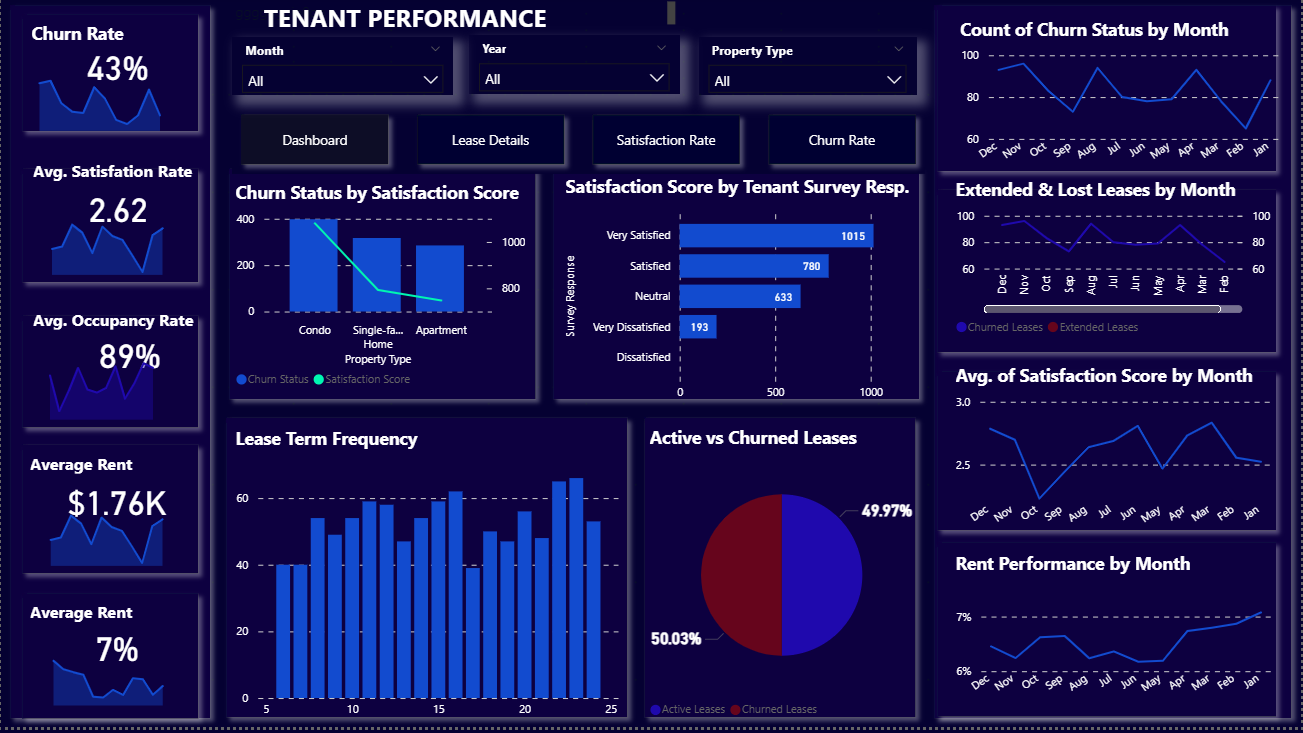

What the dashboard file says about the page in this screenshot:
{"tool":"powerbi","page":{"name":"Dashboard","canvas":[1280,720],"ordinal":0},"visuals":[{"type":"shape","box":[0,0,215,720],"z":0},{"type":"shape","box":[910,0,370,720],"z":1000},{"type":"shape","box":[212.2,406.7,413.3,313.3],"z":2000},{"type":"shape","box":[215,161.7,320,245],"z":3000},{"type":"shape","box":[625,406.7,285,313.3],"z":4000},{"type":"shape","box":[535,161.7,378.3,245],"z":5000},{"type":"textbox","box":[226,0,308,175],"z":6000},{"type":"textbox","box":[253.4,0,414.7,48],"z":7000},{"type":"pageNavigator","box":[227,108.2,682.7,67],"z":8000},{"type":"shape","box":[11.7,8.3,191.7,133.3],"z":9000},{"type":"shape","box":[11.7,161.7,191.7,130],"z":10000},{"type":"shape","box":[11.7,305,191.7,128.3],"z":11000},{"type":"shape","box":[11.7,433.3,191.7,145],"z":12000},{"type":"shape","box":[11.7,578.3,191.7,141.7],"z":13000},{"type":"card","title":"Churn Rate","fields":{"Values":["Measures Table.Churn Rate"]},"box":[25,25,178.3,63.3],"z":14000},{"type":"card","title":"Avg. Satisfation Rate","fields":{"Values":["Measures Table.Average Satisfaction Score"]},"box":[26.7,161.7,176.7,73.3],"z":15000},{"type":"card","title":"Avg. Occupancy Rate","fields":{"Values":["Avg(property_information.Historical Occupancy Rate Decimal)"]},"box":[26.9,307.8,199.7,67.2],"z":16000},{"type":"card","title":"Average Rent","fields":{"Values":["Avg(Fact Table.Rent Amount (USD))"]},"box":[23.3,448.3,180,73.3],"z":17000},{"type":"card","title":"Average Rent","fields":{"Values":["Measures Table.Rent Collection Performance"]},"box":[23.3,595,180,68.3],"z":18000},{"type":"areaChart","fields":{"Y":["Measures Table.Churn Rate"],"Category":["Start Date.Month"]},"box":[11.7,56.7,191.7,81.7],"z":19000},{"type":"areaChart","fields":{"Y":["Measures Table.Average Satisfaction Score"],"Category":["Start Date.Month"]},"box":[25,198.3,178.3,81.7],"z":20000},{"type":"areaChart","fields":{"Y":["Measures Table.Average Satisfaction Score"],"Category":["Start Date.Month"]},"box":[23.3,485,180,81.7],"z":21000},{"type":"areaChart","fields":{"Category":["Start Date.Month"],"Y":["Measures Table.Rent Collection Performance"]},"box":[26.7,623.3,176.7,80],"z":22000},{"type":"areaChart","fields":{"Y":["Measures Table.Current Occupancy Rate"],"Category":["Start Date.Month"]},"box":[23.6,341.9,168.4,80.8],"z":23000},{"type":"lineChart","fields":{"Category":["Start Date.MonthName"],"Y":["CountNonNull(Fact Table.Churn States)"]},"box":[930,13.3,320,168.3],"z":24000},{"type":"shape","box":[913.3,0,351.7,181.7],"z":25000},{"type":"shape","box":[913.3,528.3,351.7,190],"z":26000},{"type":"shape","box":[913.3,181.7,351.7,178.3],"z":27000},{"type":"shape","box":[913.3,360,351.7,175],"z":28000},{"type":"slicer","title":"Count of Churn Status by Month","fields":{"Values":["Start Date.MonthName"]},"box":[227,39.6,217.9,57.9],"z":29000},{"type":"lineChart","title":"Extended & Lost Leases by Month","fields":{"Category":["Start Date.MonthName"],"Y2":["Measures Table.Active Leases"],"Y":["Measures Table.Churned Leases"]},"box":[935,178.9,320,165],"z":30000},{"type":"lineChart","title":"Avg. of Satisfaction Score by Month","fields":{"Category":["Start Date.MonthName"],"Y":["Avg(tenant_information and feedback.Satisfaction Score)"]},"box":[935,361.1,320,168.3],"z":31000},{"type":"lineChart","title":"Rent Performance by Month","fields":{"Category":["Start Date.MonthName"],"Y":["Measures Table.Rent Collection Performance"]},"box":[935,546.7,320,150],"z":32000},{"type":"lineStackedColumnComboChart","title":"Churn Status by Satisfaction Score","fields":{"Y":["CountNonNull(Fact Table.Churn Status)"],"Category":["property_information.Property Type"],"Y2":["Sum(tenant_information and feedback.Satisfaction Score)"]},"box":[226.7,181.7,295,213.3],"z":33000},{"type":"clusteredColumnChart","title":"Lease Term Frequency","fields":{"Category":["Fact Table.Lease Term (Months)"],"Y":["CountNonNull(Fact Table.Lease ID)"]},"box":[226.7,423.3,386.7,295],"z":34000},{"type":"pieChart","title":"Active vs Churned Leases","fields":{"Y":["Measures Table.Active Leases","Measures Table.Churned Leases"]},"box":[633.3,422.7,269.5,298.1],"z":35000},{"type":"clusteredBarChart","title":"Satisfaction Score by Tenant Survey Resp.","fields":{"Y":["Sum(tenant_information and feedback.Satisfaction Score)"],"Category":["tenant_information and feedback.Survey Response"]},"box":[550.7,175.2,352,230.7],"z":36000},{"type":"lineChart","title":"Count of Churn Status by Month","fields":{"Category":["Start Date.MonthName"],"Y":["CountNonNull(Fact Table.Churn States)"]},"box":[940,20,325,151.7],"z":37000},{"type":"slicer","title":"Count of Churn Status by Month","fields":{"Values":["Start Date.Year"]},"box":[460.2,38.1,207.2,57.9],"z":37001},{"type":"slicer","title":"Count of Churn Status by Month","fields":{"Values":["property_information.Property Type"]},"box":[687.2,39.6,214.9,57.9],"z":37002}]}

Visuals, with their boxes in screenshot pixels (x1, y1, x2, y2), scaled from the page's 1280x720 canvas onto the 1303x733 screenshot:
shape: x1=0 y1=0 x2=219 y2=732
shape: x1=926 y1=0 x2=1302 y2=732
shape: x1=216 y1=414 x2=637 y2=732
shape: x1=219 y1=165 x2=545 y2=414
shape: x1=636 y1=414 x2=926 y2=732
shape: x1=545 y1=165 x2=930 y2=414
textbox: x1=230 y1=0 x2=544 y2=178
textbox: x1=258 y1=0 x2=680 y2=49
pageNavigator: x1=231 y1=110 x2=926 y2=178
shape: x1=12 y1=8 x2=207 y2=144
shape: x1=12 y1=165 x2=207 y2=297
shape: x1=12 y1=311 x2=207 y2=441
shape: x1=12 y1=441 x2=207 y2=589
shape: x1=12 y1=589 x2=207 y2=732
"Churn Rate" card: x1=25 y1=25 x2=207 y2=90
"Avg. Satisfation Rate" card: x1=27 y1=165 x2=207 y2=239
"Avg. Occupancy Rate" card: x1=27 y1=313 x2=231 y2=382
"Average Rent" card: x1=24 y1=456 x2=207 y2=531
"Average Rent" card: x1=24 y1=606 x2=207 y2=675
areaChart - Measures Table.Churn Rate x Start Date.Month: x1=12 y1=58 x2=207 y2=141
areaChart - Measures Table.Average Satisfaction Score x Start Date.Month: x1=25 y1=202 x2=207 y2=285
areaChart - Measures Table.Average Satisfaction Score x Start Date.Month: x1=24 y1=494 x2=207 y2=577
areaChart - Start Date.Month x Measures Table.Rent Collection Performance: x1=27 y1=635 x2=207 y2=716
areaChart - Measures Table.Current Occupancy Rate x Start Date.Month: x1=24 y1=348 x2=195 y2=430
lineChart - Start Date.MonthName x CountNonNull(Fact Table.Churn States): x1=947 y1=14 x2=1272 y2=185
shape: x1=930 y1=0 x2=1288 y2=185
shape: x1=930 y1=538 x2=1288 y2=731
shape: x1=930 y1=185 x2=1288 y2=366
shape: x1=930 y1=366 x2=1288 y2=545
"Count of Churn Status by Month" slicer: x1=231 y1=40 x2=453 y2=99
"Extended & Lost Leases by Month" lineChart: x1=952 y1=182 x2=1278 y2=350
"Avg. of Satisfaction Score by Month" lineChart: x1=952 y1=368 x2=1278 y2=539
"Rent Performance by Month" lineChart: x1=952 y1=557 x2=1278 y2=709
"Churn Status by Satisfaction Score" lineStackedColumnComboChart: x1=231 y1=185 x2=531 y2=402
"Lease Term Frequency" clusteredColumnChart: x1=231 y1=431 x2=624 y2=731
"Active vs Churned Leases" pieChart: x1=645 y1=430 x2=919 y2=732
"Satisfaction Score by Tenant Survey Resp." clusteredBarChart: x1=561 y1=178 x2=919 y2=413
"Count of Churn Status by Month" lineChart: x1=957 y1=20 x2=1288 y2=175
"Count of Churn Status by Month" slicer: x1=468 y1=39 x2=679 y2=98
"Count of Churn Status by Month" slicer: x1=700 y1=40 x2=918 y2=99
